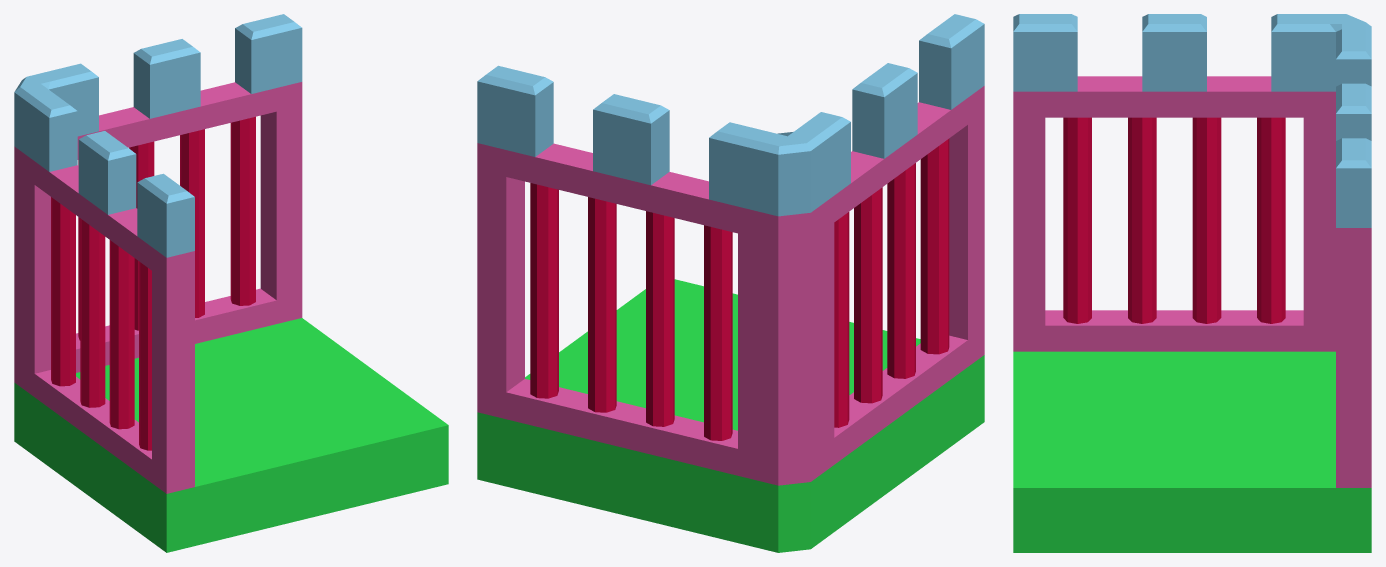
The model's file is Playground Corner.fbx.
3 renders of one model, left to right at view 1: azimuth 30°, elevation 25°; view 2: azimuth 150°, elevation 25°; view 3: azimuth 270°, elevation 25°, orthographic. The views are drawn at different scales.
Visible parts, largest first — view 1: Playground Corner; view 2: Playground Corner; view 3: Playground Corner.
Boxes of the visible parts, box(x1,y1,x2,y2) form: Playground Corner: box(14, 14, 448, 552); Playground Corner: box(477, 14, 984, 552); Playground Corner: box(1013, 14, 1371, 552).
Size of the model in its own units: 100 by 120 by 100.
